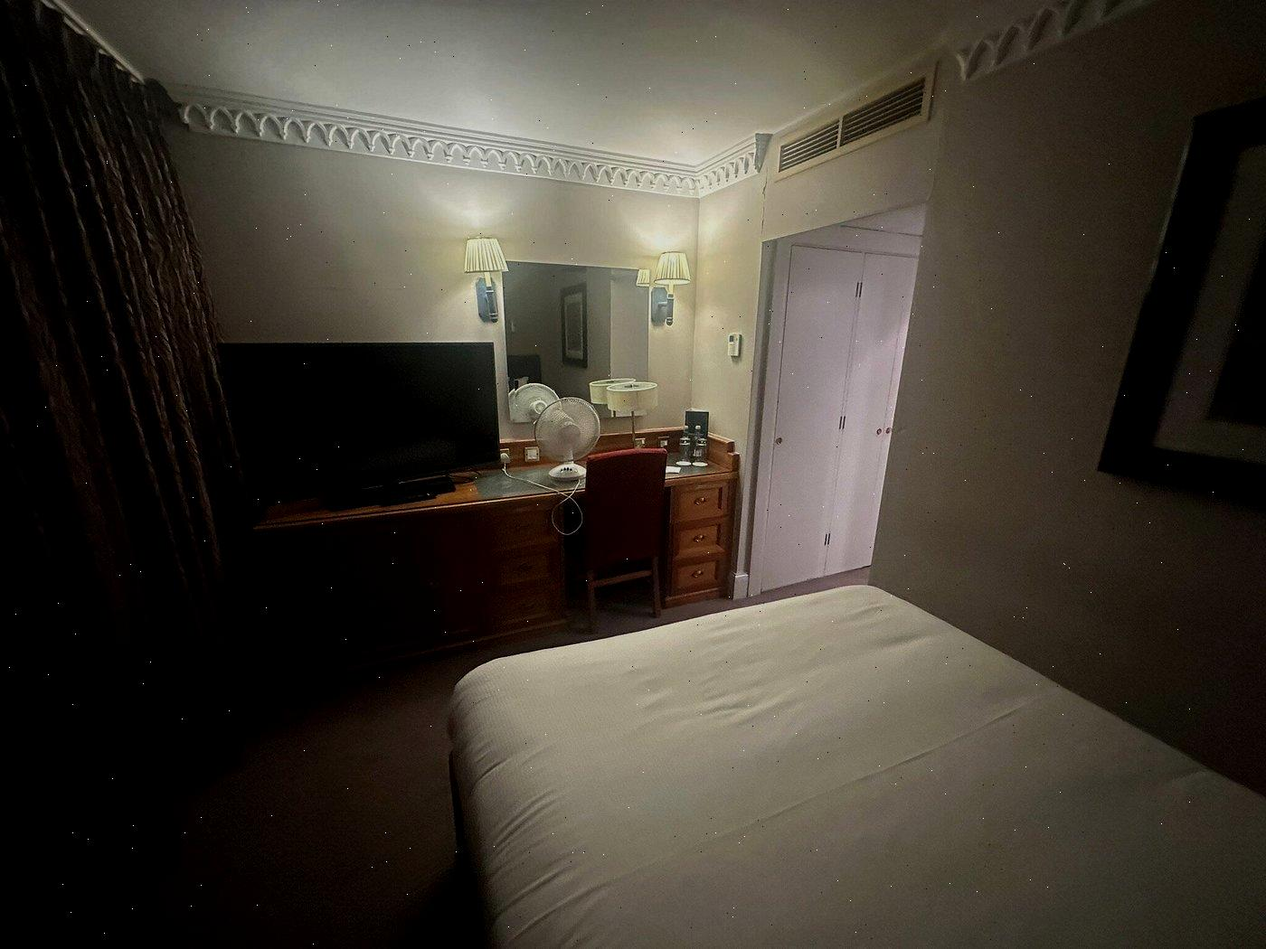chair: (579, 456, 671, 625)
clean_bed: (461, 584, 1265, 948)
organized table: (234, 343, 739, 685)
